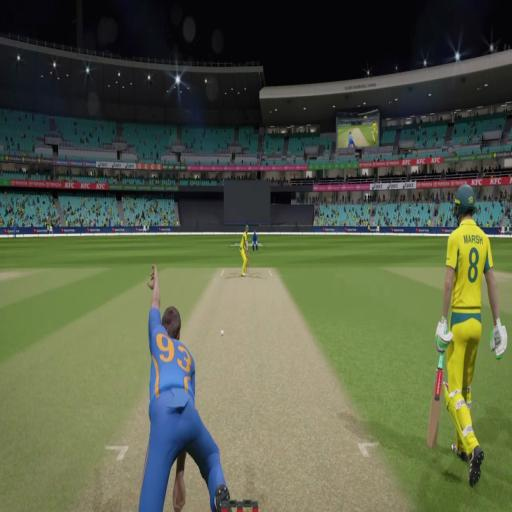ball: (216, 323, 223, 340)
